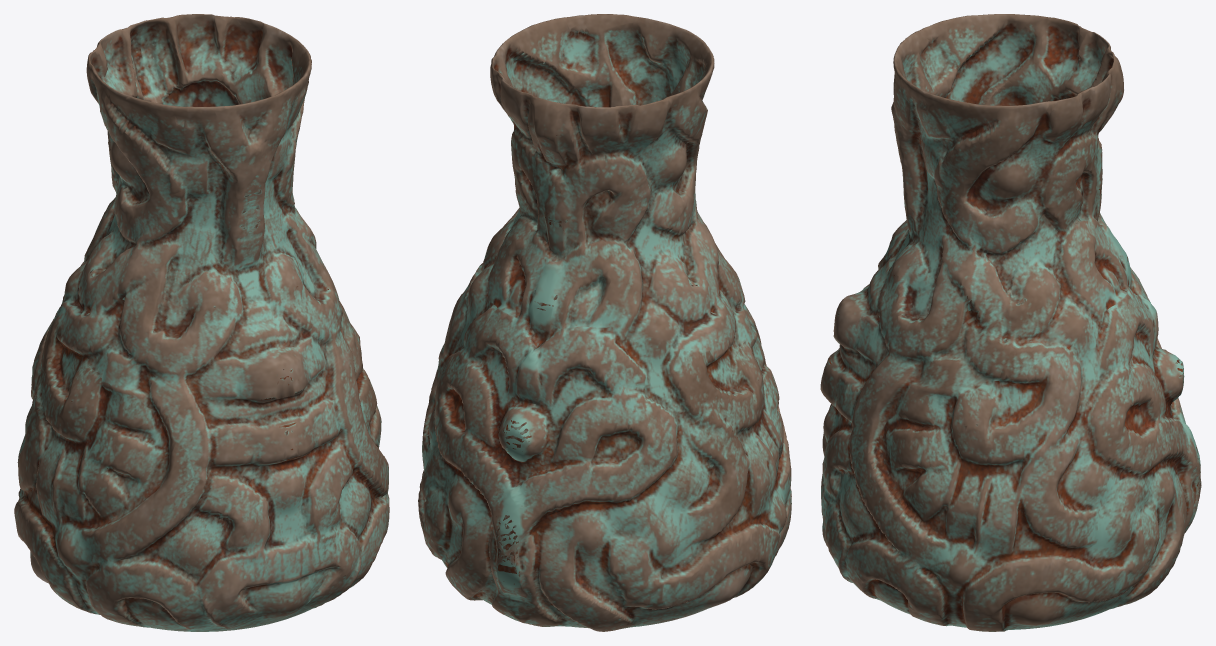
The model's file is rustic_bronze_bottle.glb.
3 views of the same model, side by side, from view 1: azimuth 30°, elevation 25°; view 2: azimuth 150°, elevation 25°; view 3: azimuth 270°, elevation 25° (orthographic).
Parts seen in each view (by area): view 1: Object_2; view 2: Object_2; view 3: Object_2.
Boxes of the visible parts, x1,y1,x2,y2 form: Object_2: (14, 14, 389, 631); Object_2: (418, 14, 791, 631); Object_2: (820, 14, 1201, 631).
Bounding box in the file's own units: 12.7 × 19.76 × 12.84.
1 material, 1 textured.
